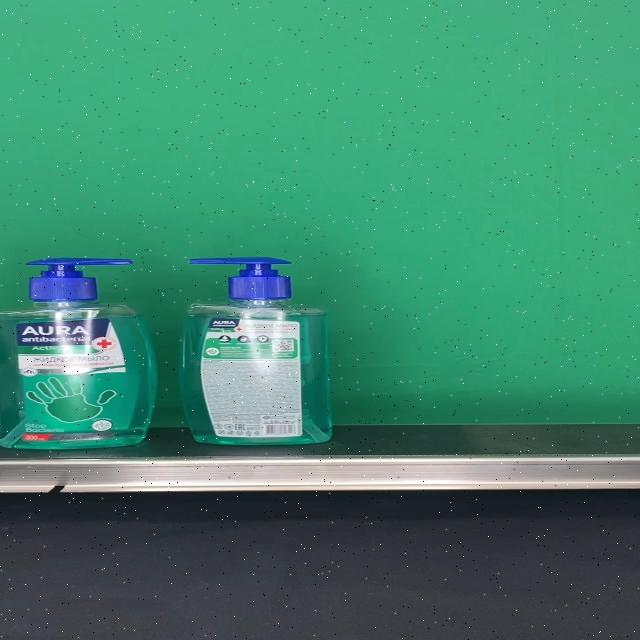Bottle: (0, 258, 157, 449), (178, 257, 334, 445)
Cap: (26, 259, 132, 301), (188, 257, 292, 299)
